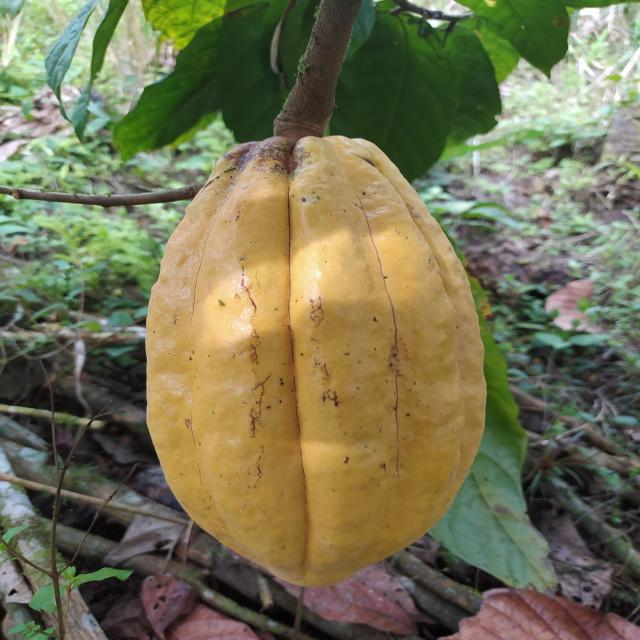Sana: (143, 137, 490, 590)
